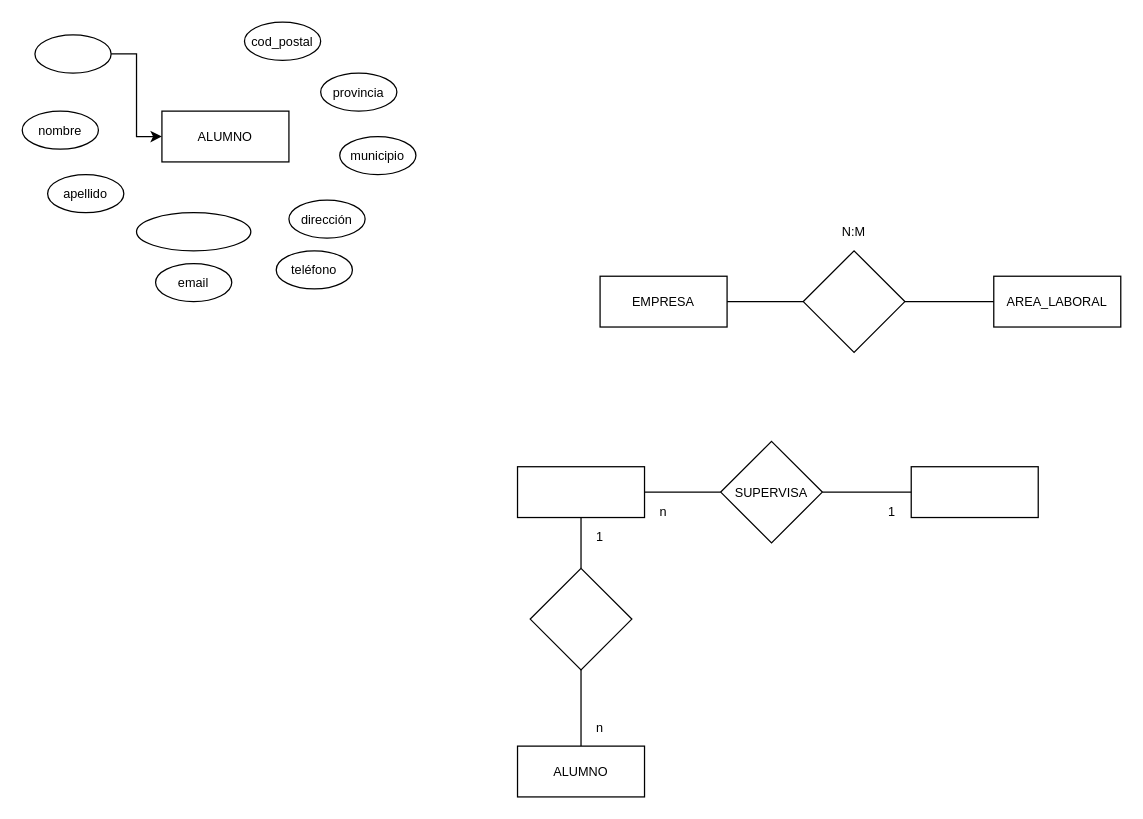
Some shapes in this 1143 by 819 pixel diagram are drawn without their labels. The shapes that lost their labels are listed below. From the top down, each one's box as (x1, y1, x2, y2) in pixels, then its label:
(34, 34, 111, 73): DNI
(135, 211, 251, 251): fecha_nacimiento
(802, 250, 905, 352): ACTIVIDAD EN
(516, 465, 645, 518): PROYECTO
(910, 465, 1038, 518): TUTOR
(529, 567, 632, 670): REALIZA
